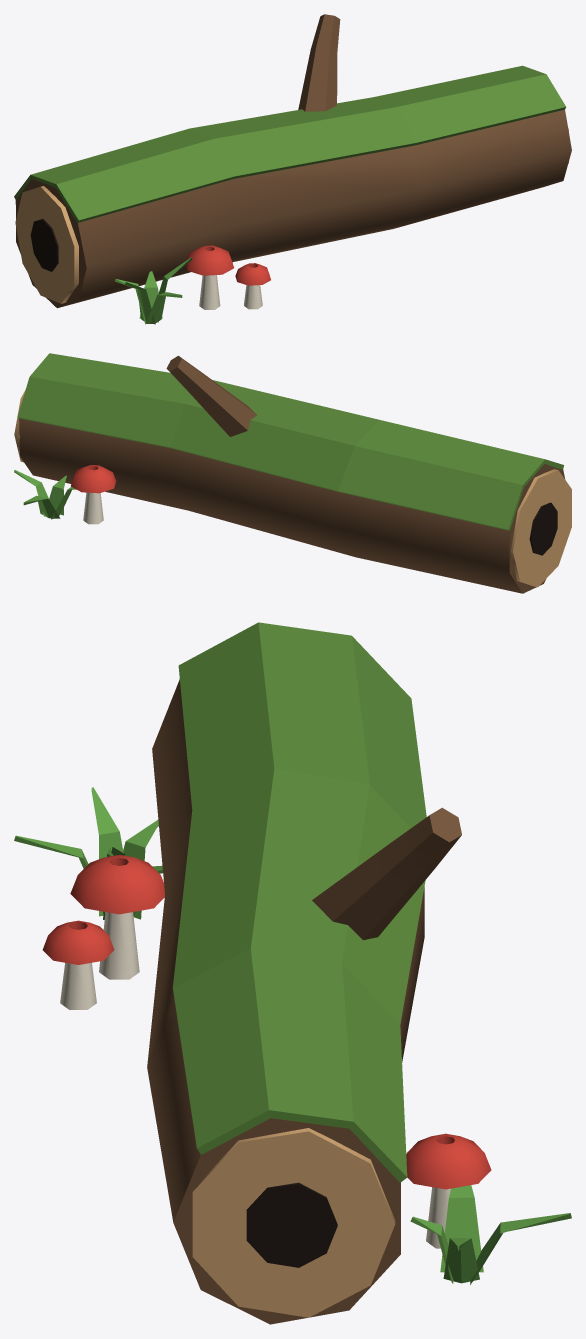
The model's file is fallen-log.glb.
3 views of the same model, one above another, from view 1: azimuth 30°, elevation 25°; view 2: azimuth 150°, elevation 25°; view 3: azimuth 270°, elevation 25° (orthographic). The views are drawn at different scales.
Visible parts, largest first — view 1: FallenLog_Bark, FallenLog_Moss, FallenLog_CutEnds, FallenLog_MushroomCaps, FallenLog_Grass, FallenLog_Hollow, FallenLog_MushroomStems; view 2: FallenLog_Moss, FallenLog_Bark, FallenLog_CutEnds, FallenLog_Grass, FallenLog_Hollow, FallenLog_MushroomCaps, FallenLog_MushroomStems; view 3: FallenLog_Moss, FallenLog_Bark, FallenLog_CutEnds, FallenLog_MushroomCaps, FallenLog_Grass, FallenLog_Hollow, FallenLog_MushroomStems.
Boxes of the visible parts, x1,y1,x2,y2 form: FallenLog_Bark: (15,14,571,308); FallenLog_Moss: (14,65,565,222); FallenLog_CutEnds: (15,127,568,303); FallenLog_MushroomCaps: (186,245,270,285); FallenLog_Grass: (115,257,192,324); FallenLog_Hollow: (30,219,58,271); FallenLog_MushroomStems: (199,275,262,309); FallenLog_Moss: (17,353,563,530); FallenLog_Bark: (19,355,565,593); FallenLog_CutEnds: (14,390,571,587); FallenLog_Grass: (14,470,76,519); FallenLog_Hollow: (529,502,557,555); FallenLog_MushroomCaps: (71,465,116,493); FallenLog_MushroomStems: (83,492,103,524); FallenLog_Moss: (173,622,426,1182); FallenLog_Bark: (147,679,461,1324); FallenLog_CutEnds: (192,1128,395,1317); FallenLog_MushroomCaps: (42,855,491,1189); FallenLog_Grass: (14,787,571,1284); FallenLog_Hollow: (246,1182,337,1267); FallenLog_MushroomStems: (60,912,450,1248).
Size of the model in its own units: 6.86 by 2.39 by 3.42.
